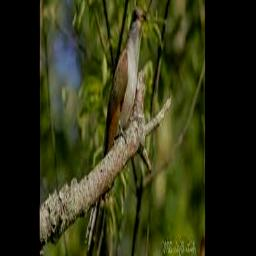Cuckoo: (86, 7, 146, 253)
